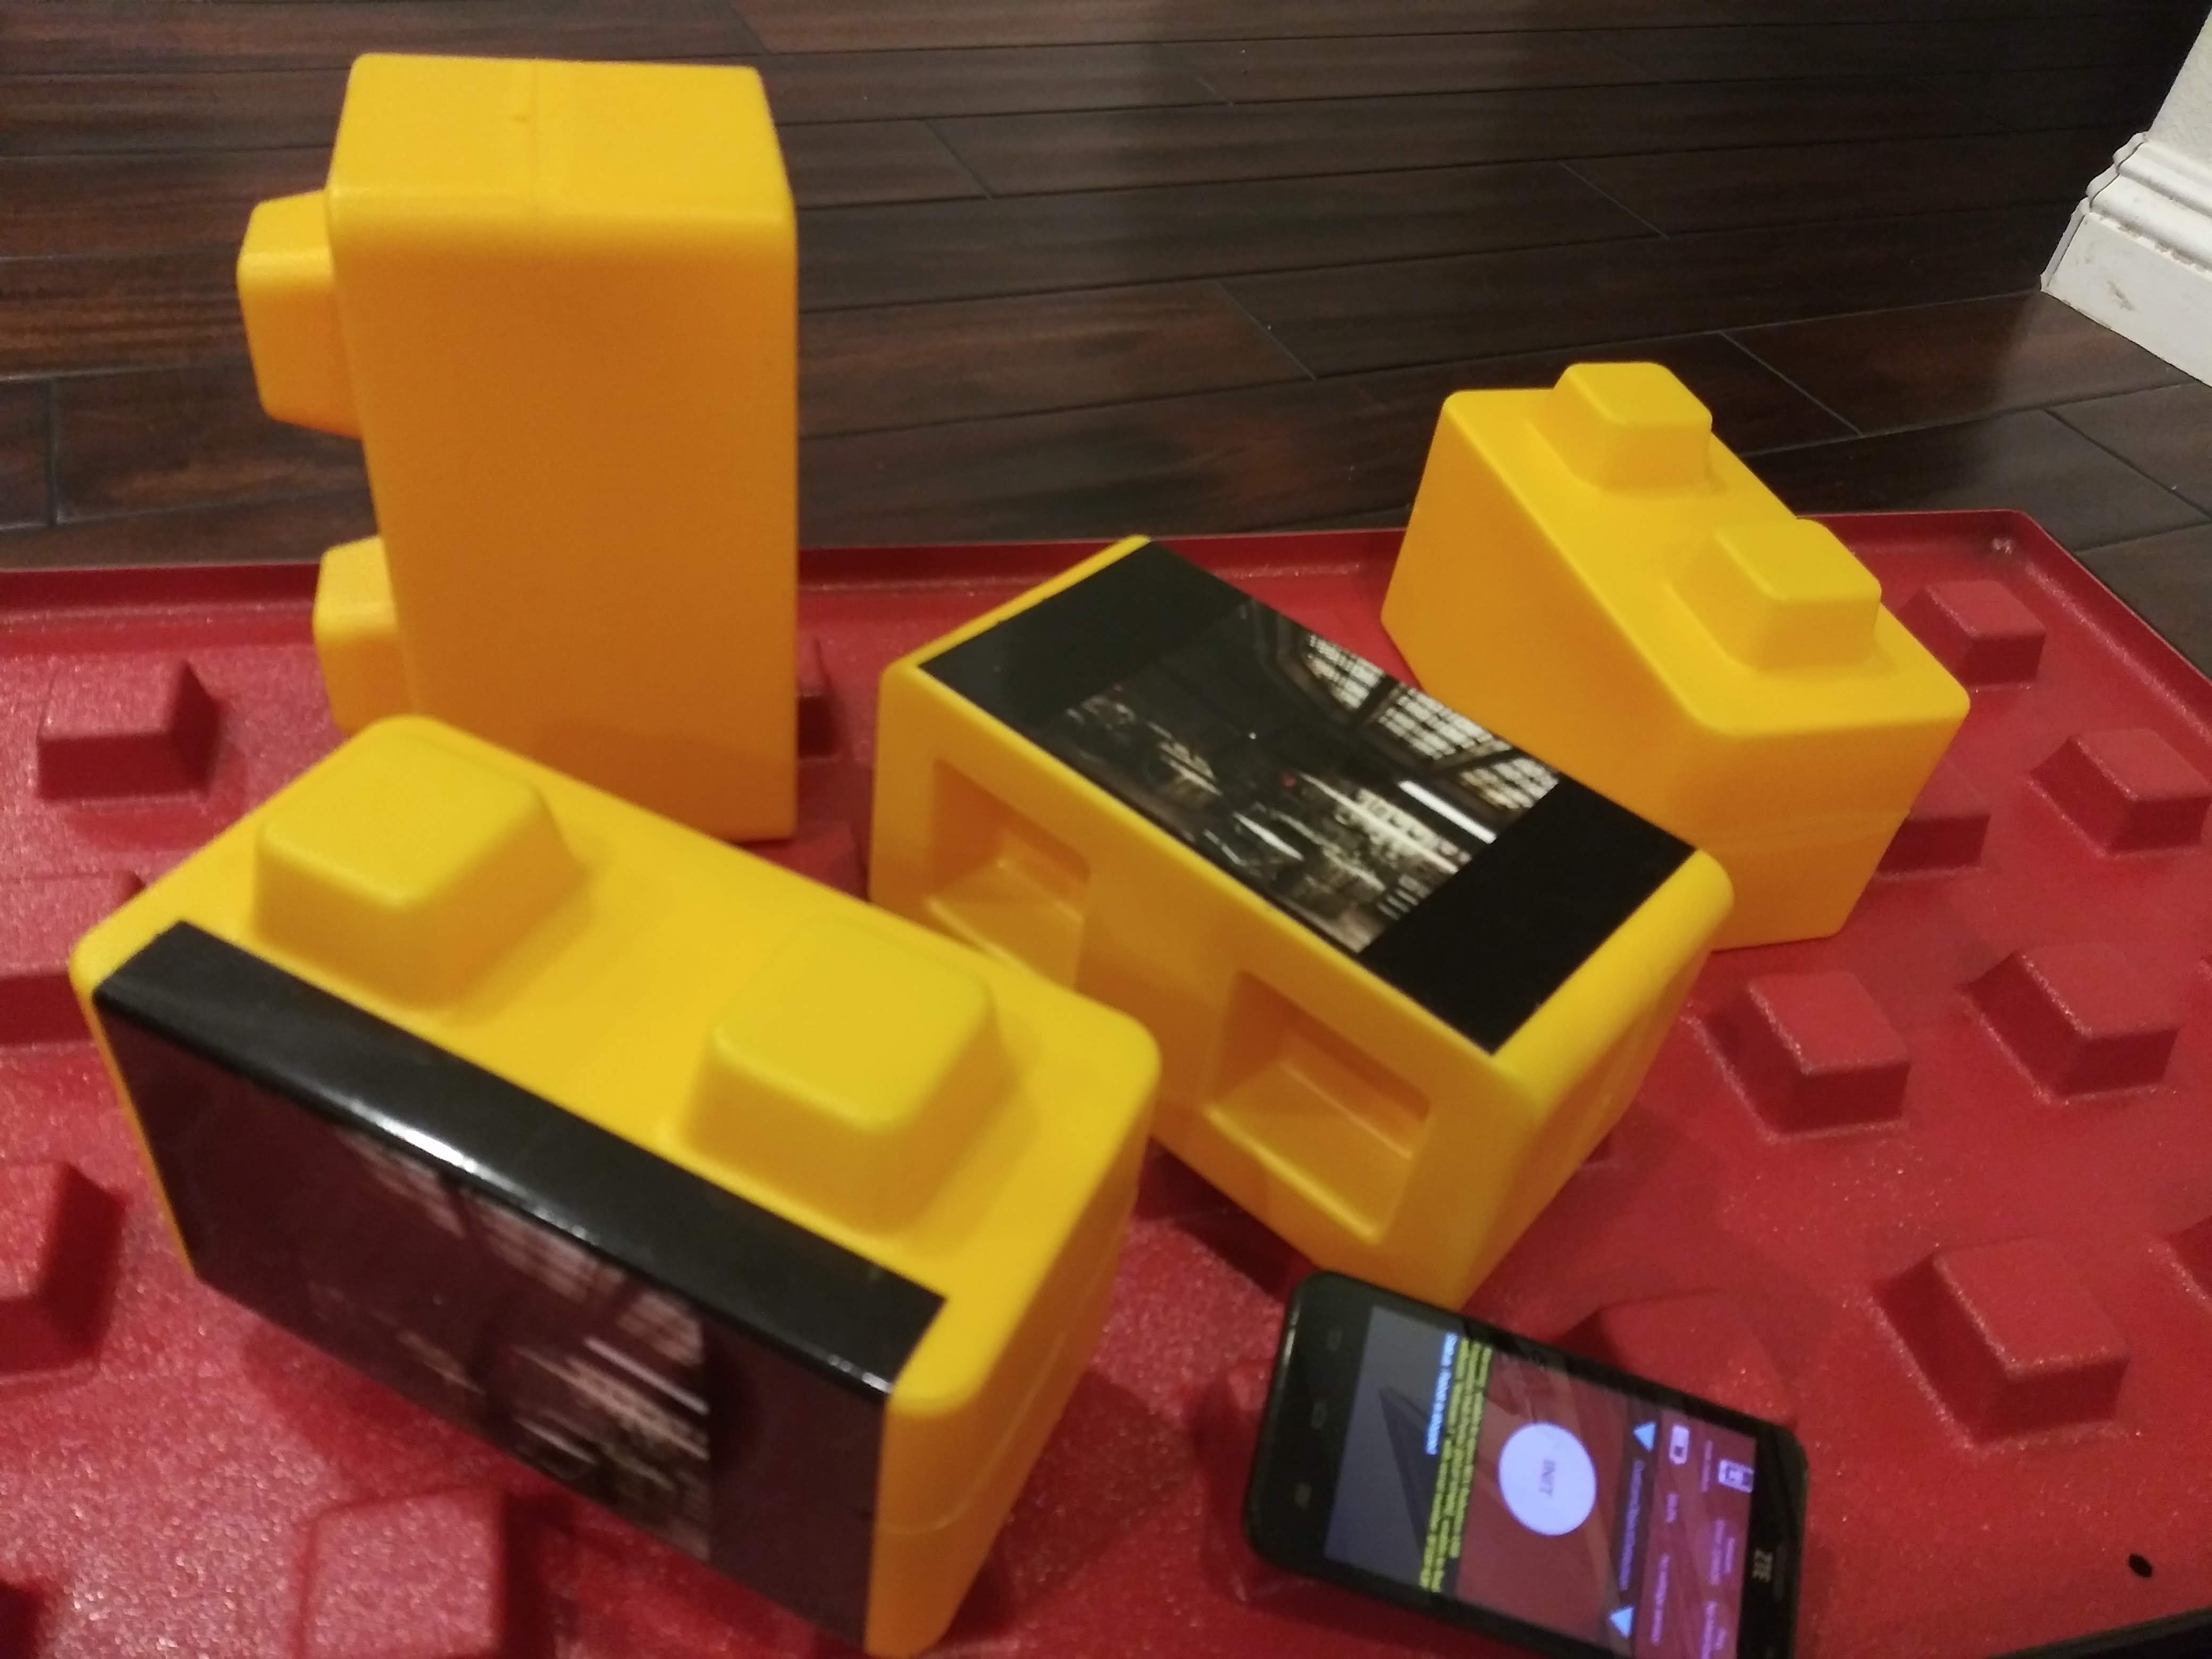skystone: (82, 842, 993, 1532), (1014, 610, 1575, 1190)
stone: (266, 77, 805, 789), (1454, 373, 1939, 847)
